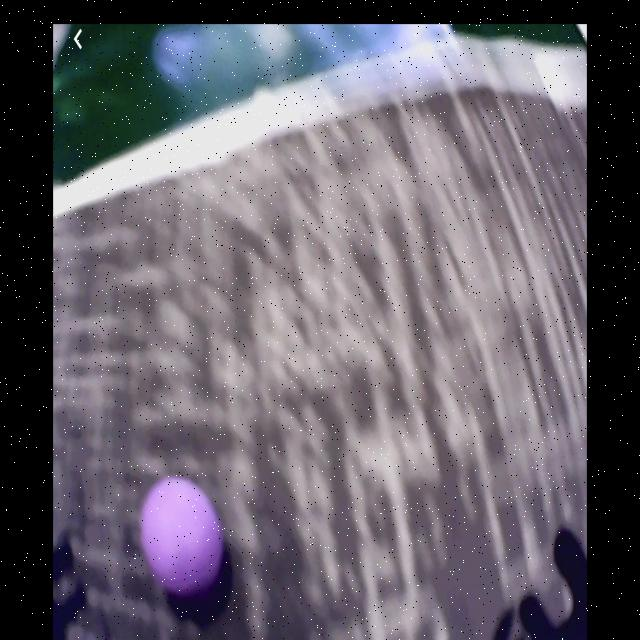ball: (144, 478, 223, 597)
